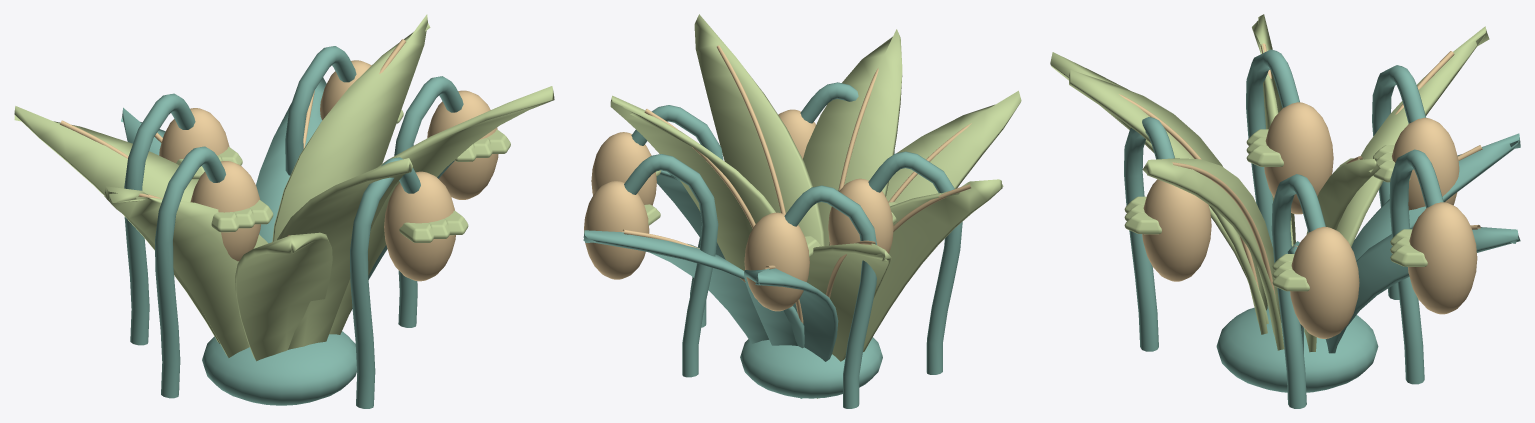
The model's file is bio_mist_leaf_08_near.glb.
3 views of the same model, side by side, from view 1: azimuth 30°, elevation 25°; view 2: azimuth 150°, elevation 25°; view 3: azimuth 270°, elevation 25° (orthographic). The views are drawn at different scales.
Parts seen in each view (by area): view 1: Cupped condensate leaf.008, Cupped condensate leaf.007, Cupped condensate leaf.004, Root rosette, Cupped condensate leaf.002, Cupped condensate leaf.001, Arched fruit stem.004, Cupped condensate leaf.005, Pendant spore capsule.002, Arched fruit stem.002, Arched fruit stem.001, Pendant spore capsule.004 (+10 smaller); view 2: Cupped condensate leaf.005, Cupped condensate leaf.002, Cupped condensate leaf.008, Cupped condensate leaf.004, Cupped condensate leaf.007, Root rosette, Cupped condensate leaf.003, Arched fruit stem.003, Arched fruit stem.001, Pendant spore capsule.001, Cupped condensate leaf.006, Arched fruit stem.004 (+13 smaller); view 3: Root rosette, Pendant spore capsule, Pendant spore capsule.003, Cupped condensate leaf.005, Pendant spore capsule.002, Cupped condensate leaf.002, Arched fruit stem, Pendant spore capsule.004, Arched fruit stem.003, Arched fruit stem.002, Cupped condensate leaf.001, Arched fruit stem.004 (+14 smaller).
Boxes of the visible parts, box(x1,y1,x2,y2) form: Cupped condensate leaf.008: box(272, 14, 430, 241); Cupped condensate leaf.007: box(235, 232, 332, 361); Cupped condensate leaf.004: box(104, 186, 267, 357); Root rosette: box(202, 331, 356, 405); Cupped condensate leaf.002: box(277, 158, 412, 349); Cupped condensate leaf.001: box(14, 106, 220, 343); Arched fruit stem.004: box(155, 146, 225, 398); Cupped condensate leaf.005: box(329, 86, 554, 334); Pendant spore capsule.002: box(384, 171, 455, 281); Arched fruit stem.002: box(350, 157, 420, 408); Arched fruit stem.001: box(124, 93, 195, 345); Pendant spore capsule.004: box(190, 161, 260, 261); Cupped condensate leaf.005: box(694, 14, 824, 246); Cupped condensate leaf.002: box(803, 29, 902, 245); Cupped condensate leaf.008: box(610, 95, 775, 270); Cupped condensate leaf.004: box(863, 179, 1003, 351); Cupped condensate leaf.007: box(886, 90, 1021, 203); Root rosette: box(740, 337, 882, 398); Cupped condensate leaf.003: box(583, 230, 804, 348); Arched fruit stem.003: box(624, 154, 718, 377); Arched fruit stem.001: box(784, 185, 876, 408); Pendant spore capsule.001: box(744, 212, 809, 311); Cupped condensate leaf.006: box(744, 268, 838, 398); Arched fruit stem.004: box(868, 151, 962, 374); Root rosette: box(1216, 306, 1378, 392); Pendant spore capsule: box(1290, 226, 1359, 338); Pendant spore capsule.003: box(1408, 202, 1477, 314); Cupped condensate leaf.005: box(1142, 158, 1284, 350); Pendant spore capsule.002: box(1142, 179, 1211, 281); Cupped condensate leaf.002: box(1069, 70, 1267, 334); Arched fruit stem: box(1271, 174, 1325, 408); Pendant spore capsule.004: box(1264, 102, 1333, 214); Arched fruit stem.003: box(1389, 149, 1443, 384); Arched fruit stem.002: box(1124, 117, 1174, 351); Cupped condensate leaf.001: box(1336, 26, 1489, 246); Arched fruit stem.004: box(1246, 49, 1299, 246).
Size of the model in its own units: 1.83 by 1.3 by 1.74.
